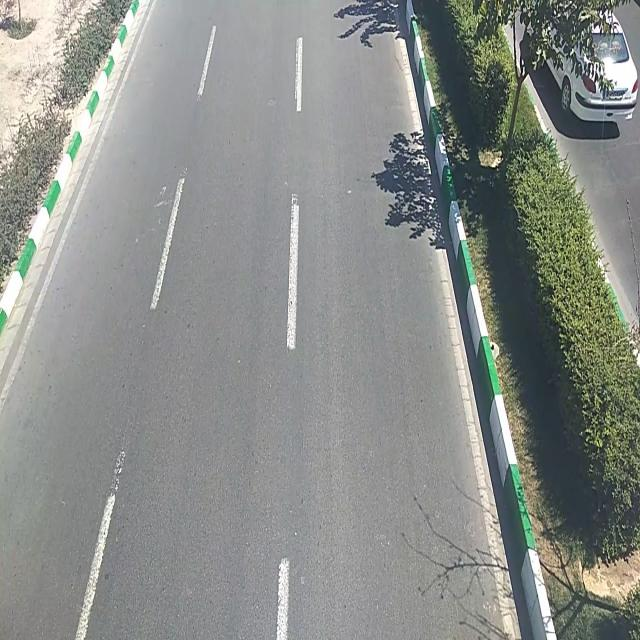car: (538, 11, 638, 126)
